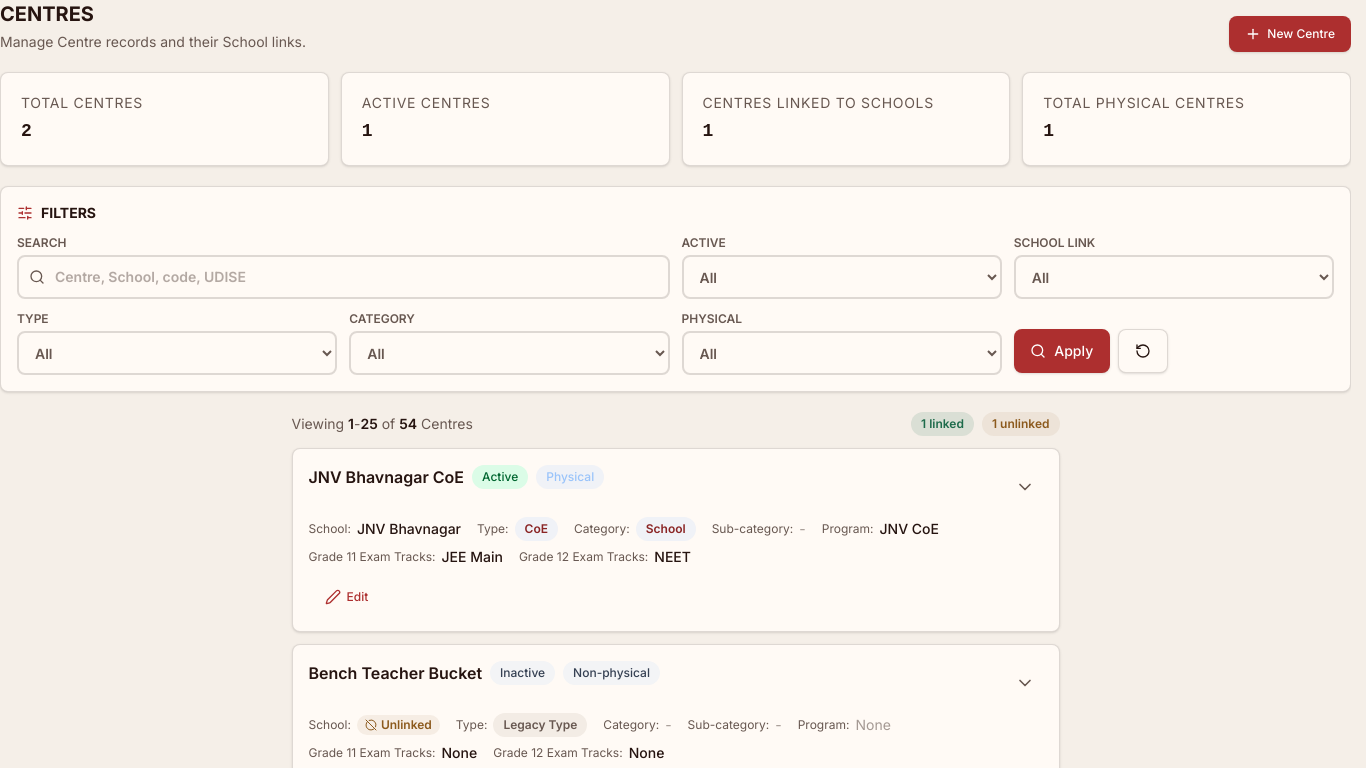
Test: CentreGrid › loads later Centre pages without resetting filters
The width and height of the screenshot is (1366, 768).
Type "bench" into the field labelled "Search" at [343, 277], box [17, 255, 670, 299]
(page scrolled)
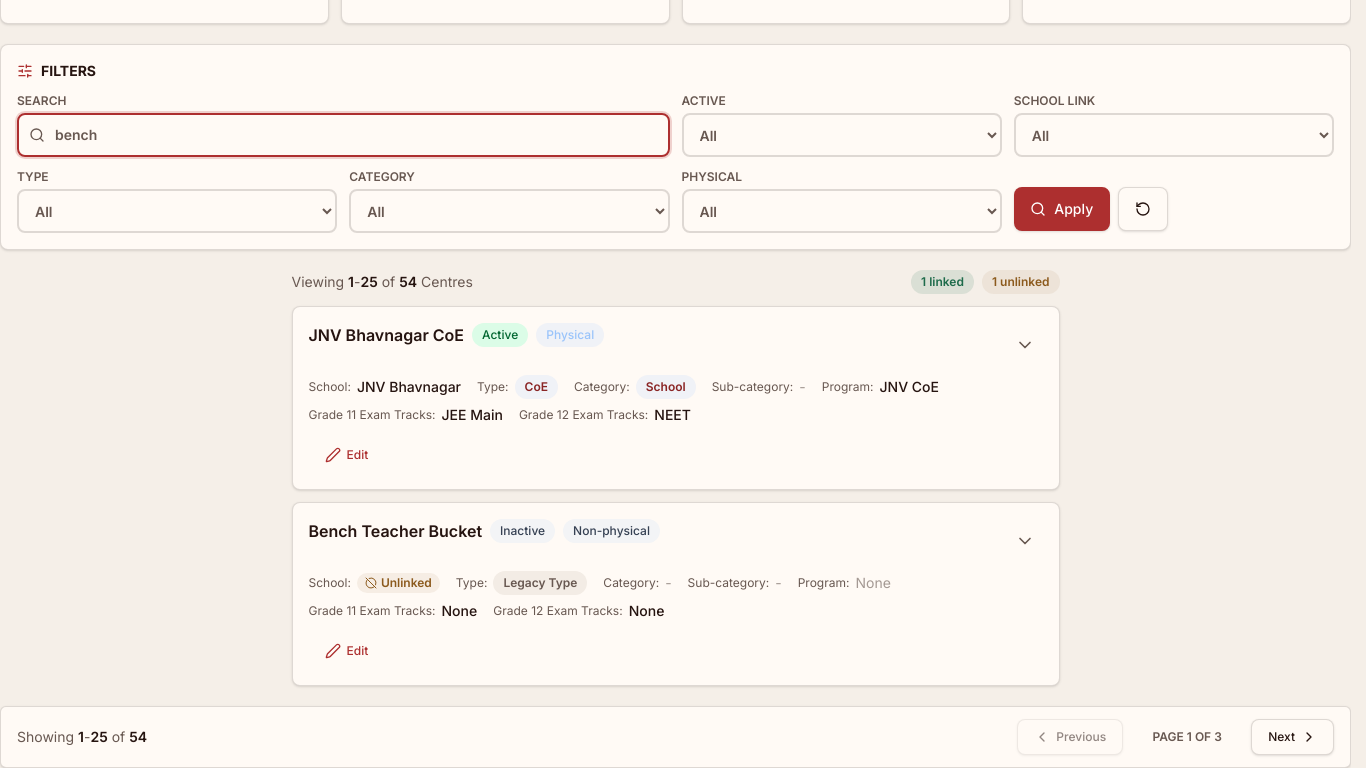
Click the button with aria-label "Next Centre page" at [1293, 737], box [1251, 719, 1334, 755]
(page scrolled)
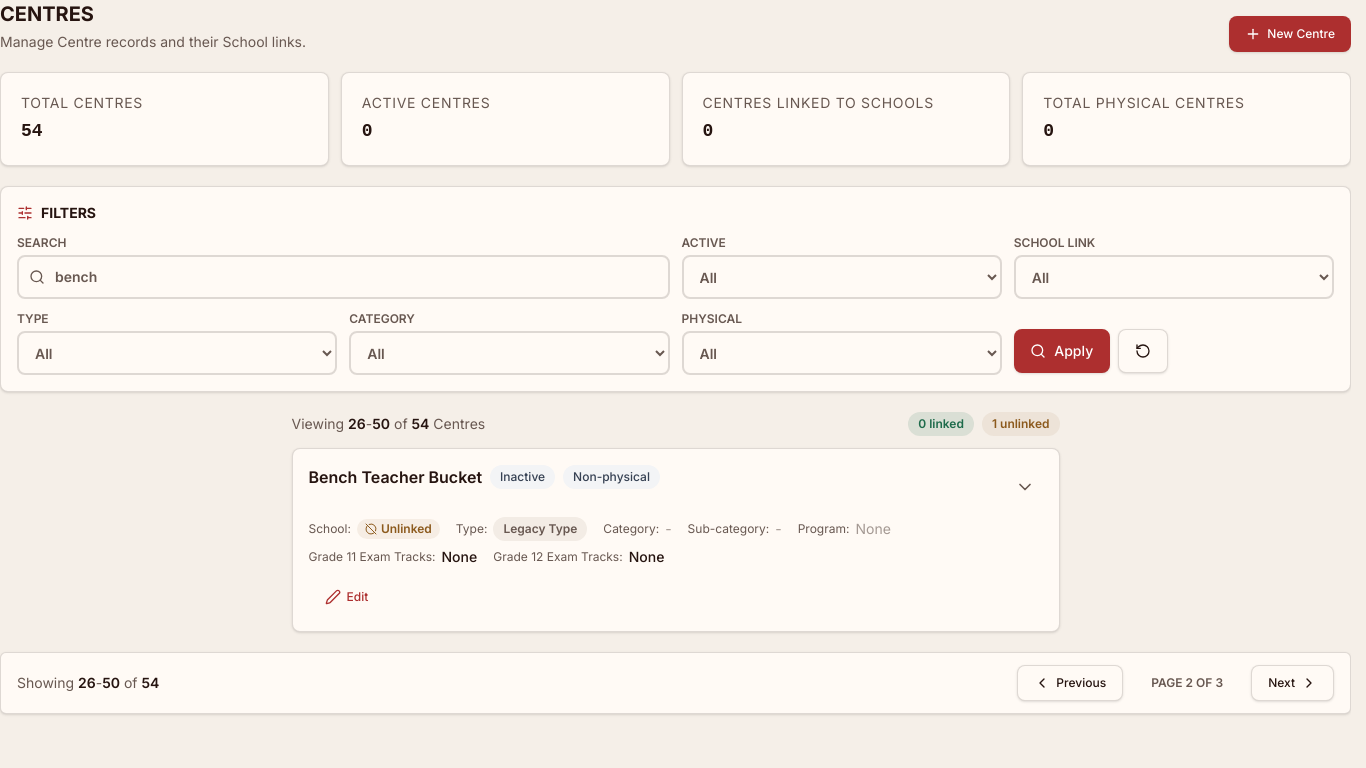
Expected: the text "Page 2 of 3" is shown, [1151, 675, 1223, 690]
Expected: the text "Showing 26-50 of 54" is shown, [17, 673, 159, 693]
